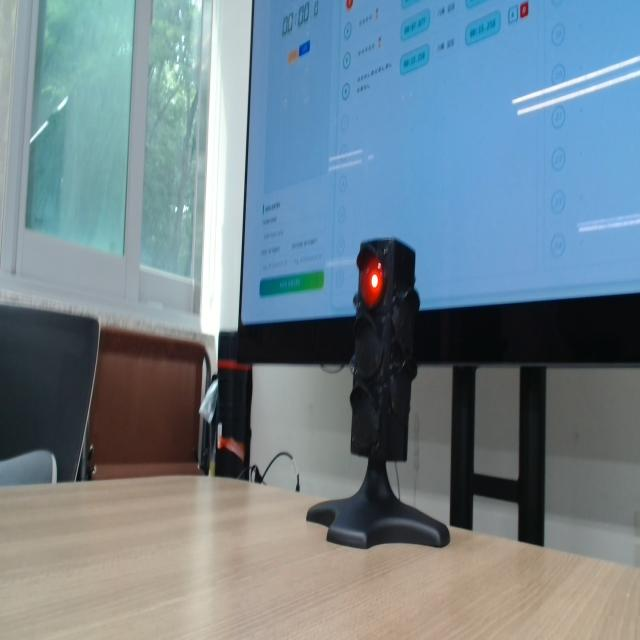red_light: (360, 256, 383, 308)
